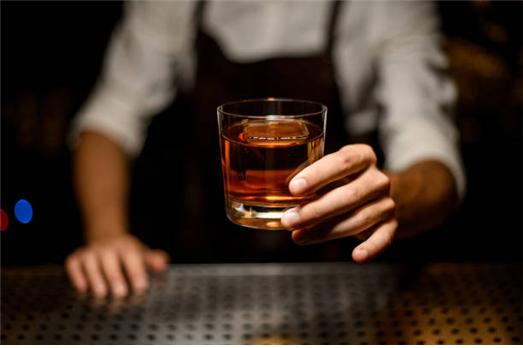alcohol: (214, 95, 326, 231)
